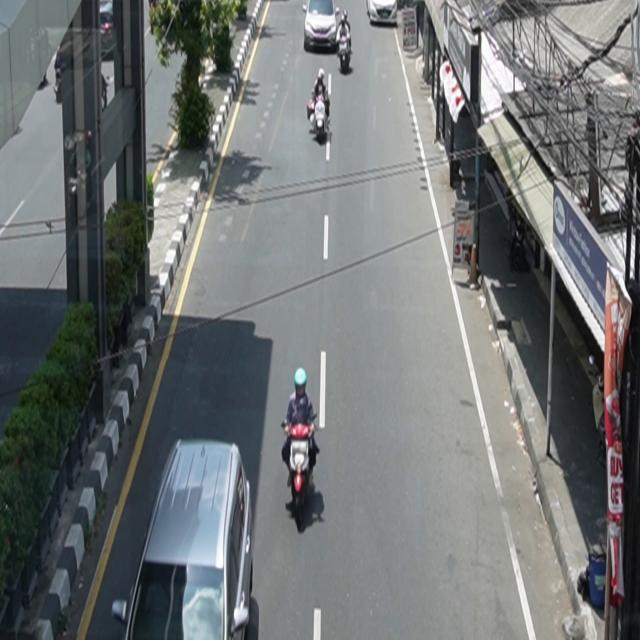car: (112, 439, 255, 640), (303, 1, 342, 53), (367, 1, 398, 26)
